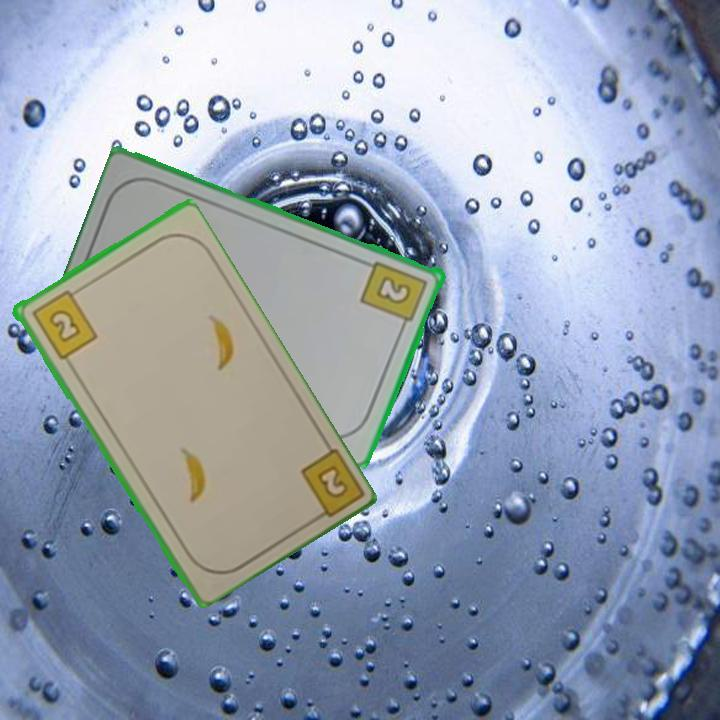2b: (27, 284, 100, 362), (296, 443, 364, 526), (358, 257, 431, 332)
